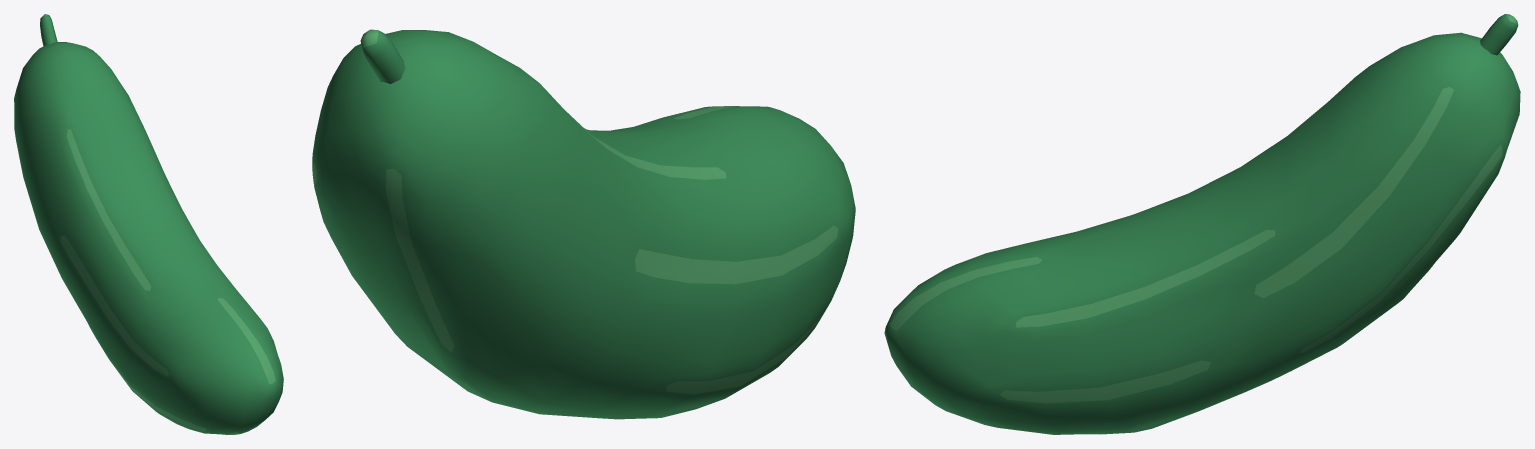
The model's file is Cucumber_02.dae.
3 renders of one model, left to right at view 1: azimuth 30°, elevation 25°; view 2: azimuth 150°, elevation 25°; view 3: azimuth 270°, elevation 25°, orthographic. The views are drawn at different scales.
Parts seen in each view (by area): view 1: Cucumber_02_LOD0; view 2: Cucumber_02_LOD0; view 3: Cucumber_02_LOD0.
Part boxes in pixels (x1,y1,x2,y2): Cucumber_02_LOD0: (14, 14, 283, 434); Cucumber_02_LOD0: (312, 29, 855, 419); Cucumber_02_LOD0: (884, 14, 1520, 434).
Size of what is drawn, in the model's own units: 1.96 by 6.47 by 4.65.
